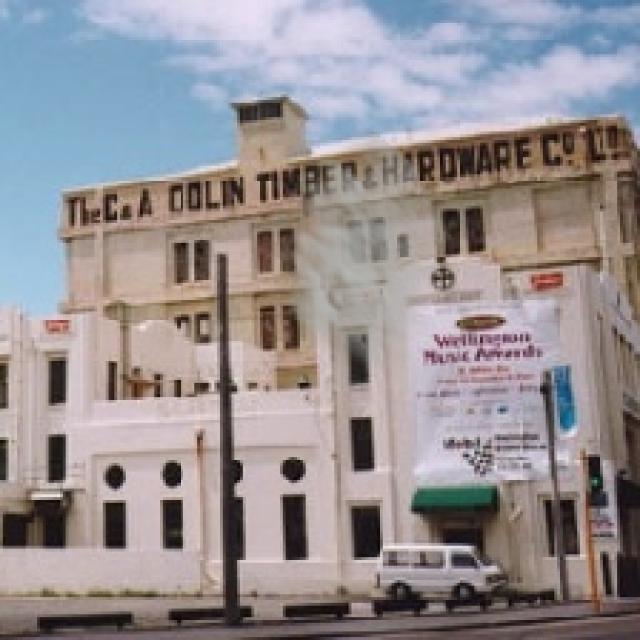smoke: (255, 120, 454, 380)
